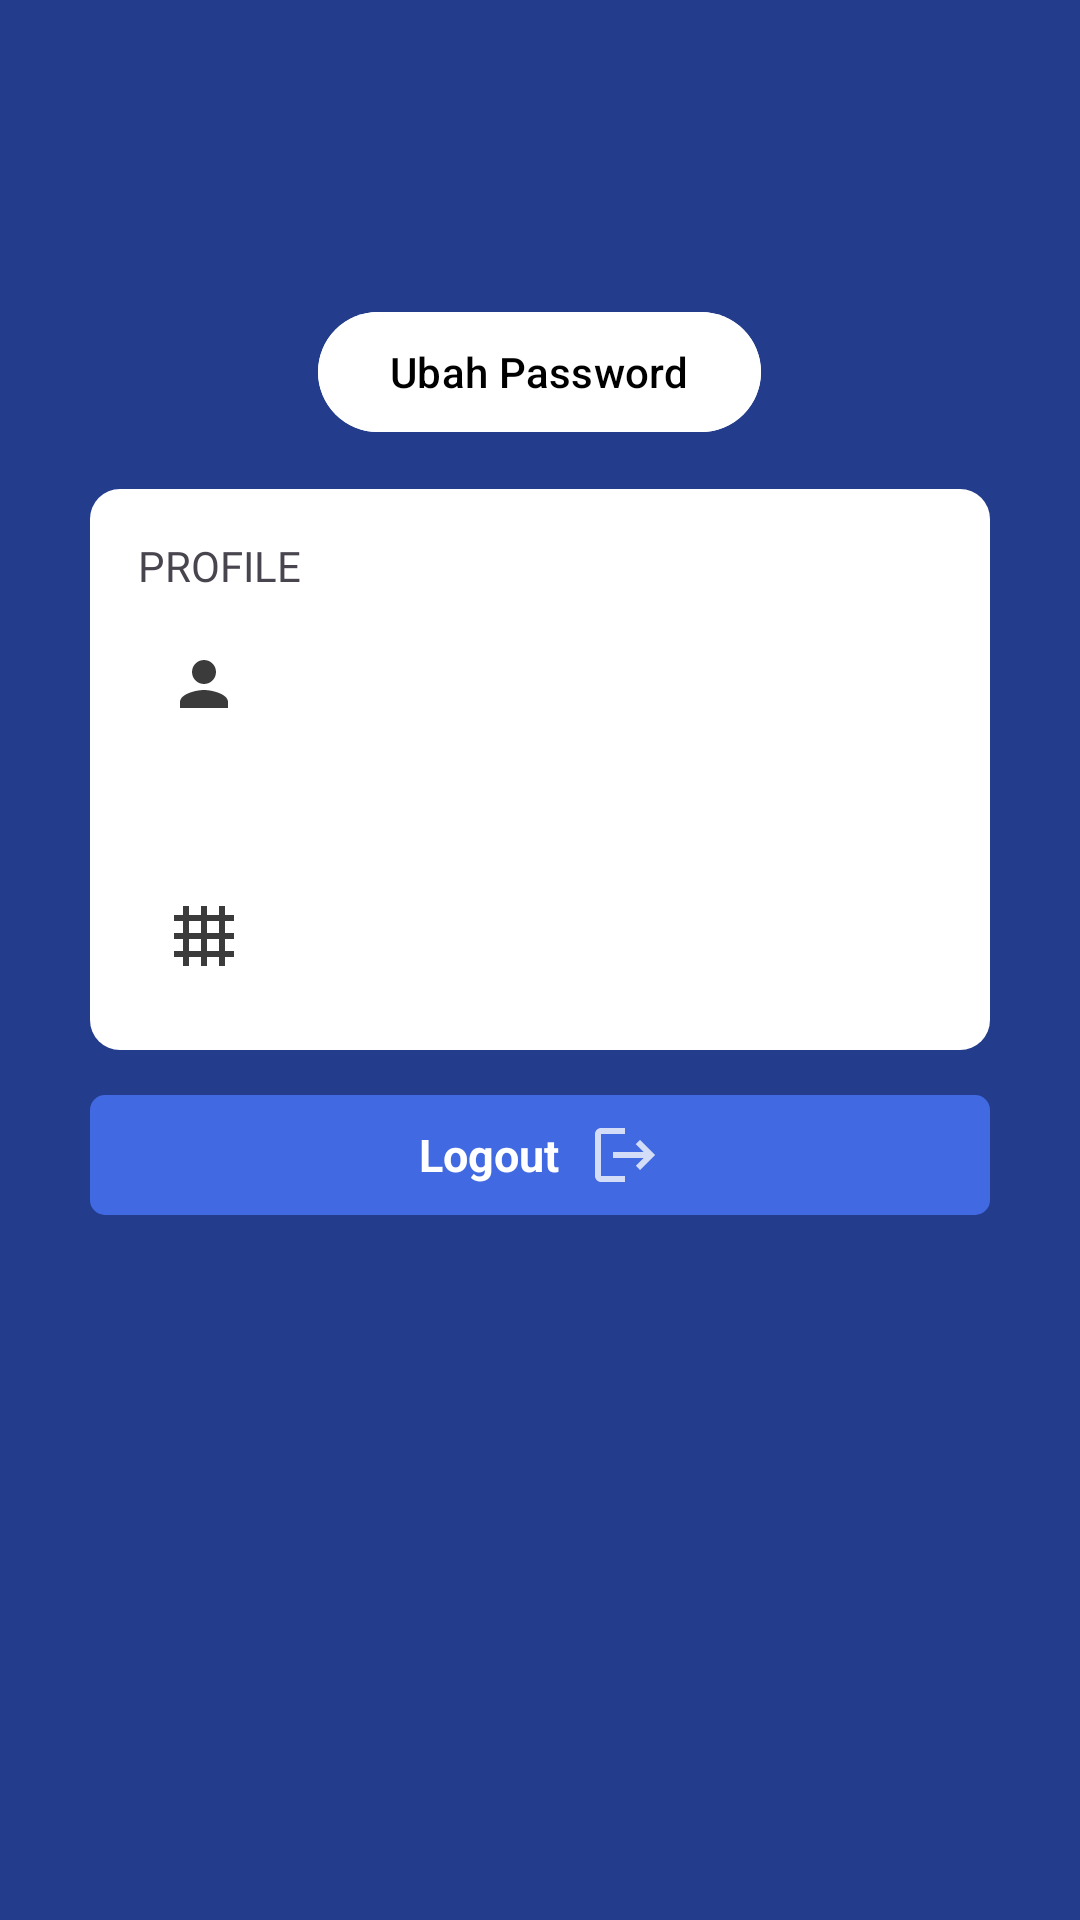

Named icons in this screenshot (1080x1920) and their centers, point (x, y):
grid: point (204, 936)
person: point (204, 684)
